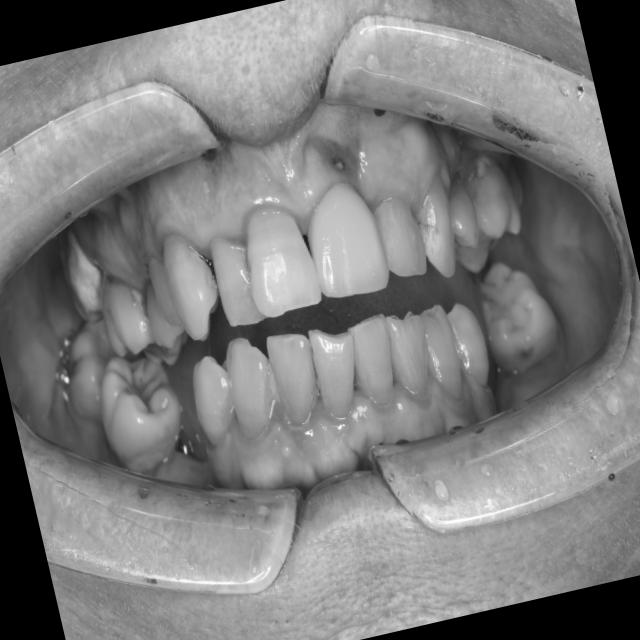tooth: (287, 165, 405, 324), (227, 190, 338, 343), (87, 337, 198, 486), (148, 209, 245, 357), (466, 249, 571, 378), (187, 207, 279, 344), (253, 320, 340, 452), (369, 290, 448, 420), (336, 298, 415, 427), (359, 174, 440, 294), (298, 309, 375, 434), (52, 310, 130, 432), (401, 157, 471, 291), (450, 136, 530, 251), (435, 286, 505, 413), (215, 333, 287, 454), (180, 337, 249, 460), (403, 290, 476, 405), (86, 255, 160, 366), (46, 222, 116, 337), (426, 149, 493, 261), (137, 243, 188, 342), (129, 277, 189, 361), (499, 154, 533, 213)
